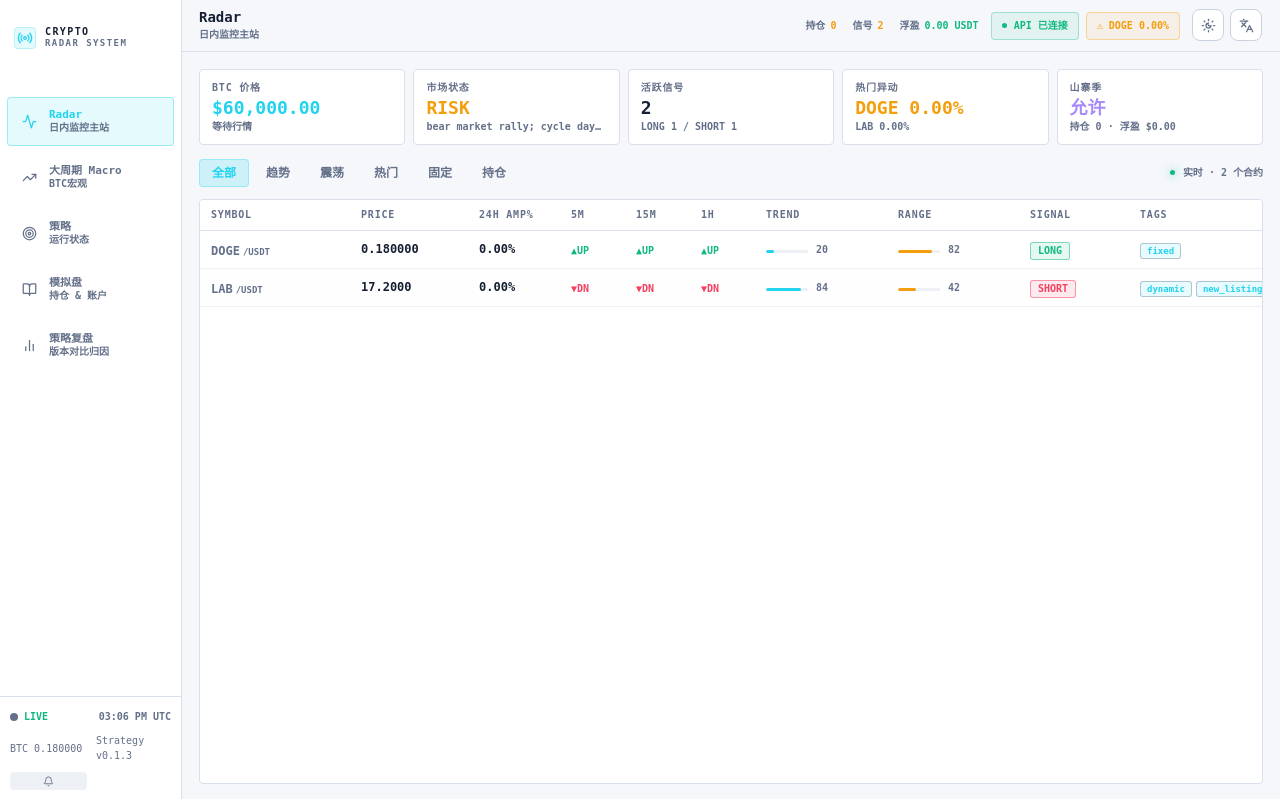
Test: App › renders analog forward K-line windows with score components
The image size is (1280, 799).
Click the button "大周期 Macro BTC宏观" at (90, 178), box [7, 153, 174, 202]
(page scrolled)
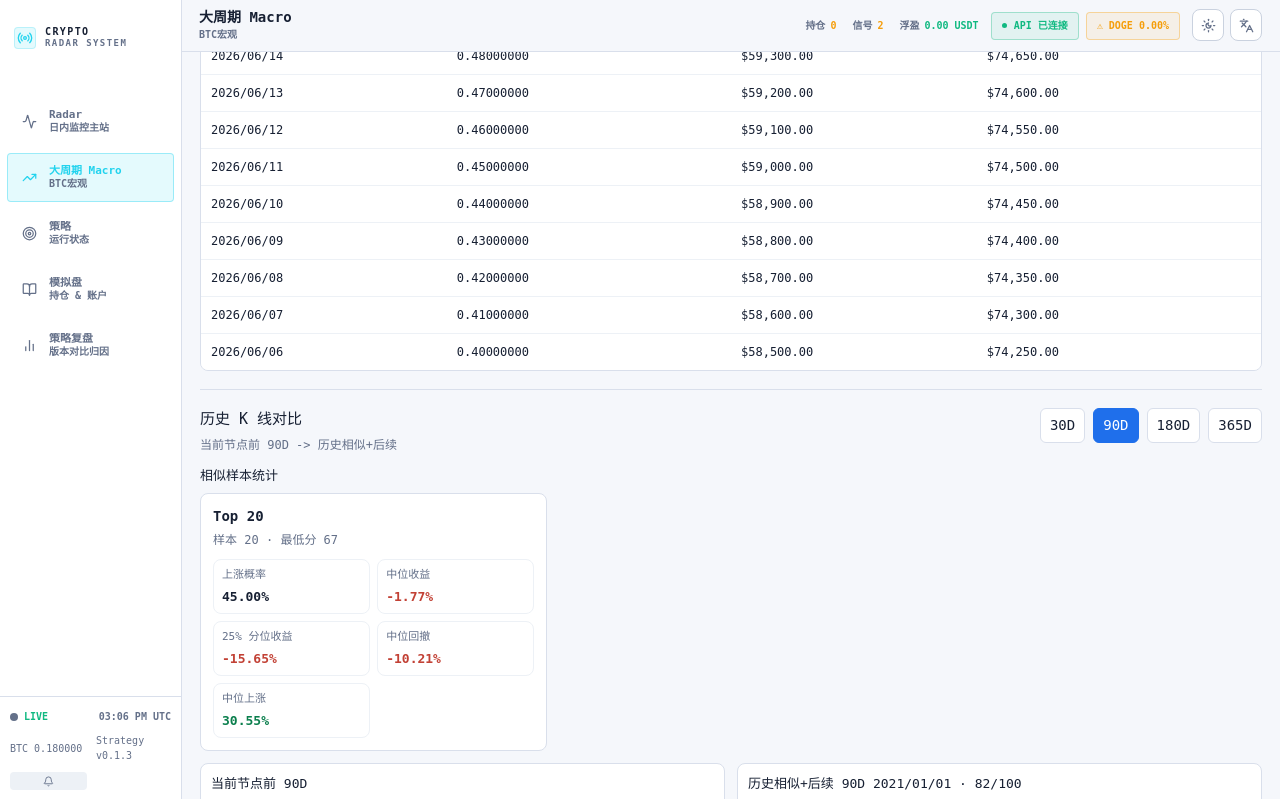
Expected: the heading "历史 K 线对比" is shown, [200, 410, 302, 428]
Expected: the heading "当前节点前 90D" is shown, [211, 776, 307, 791]
Expected: the heading "历史相似+后续 90D 2021/01/01 · 82/100" is shown, [748, 776, 1022, 791]
Click the button "30D" at (1063, 426), box [1040, 408, 1085, 443]
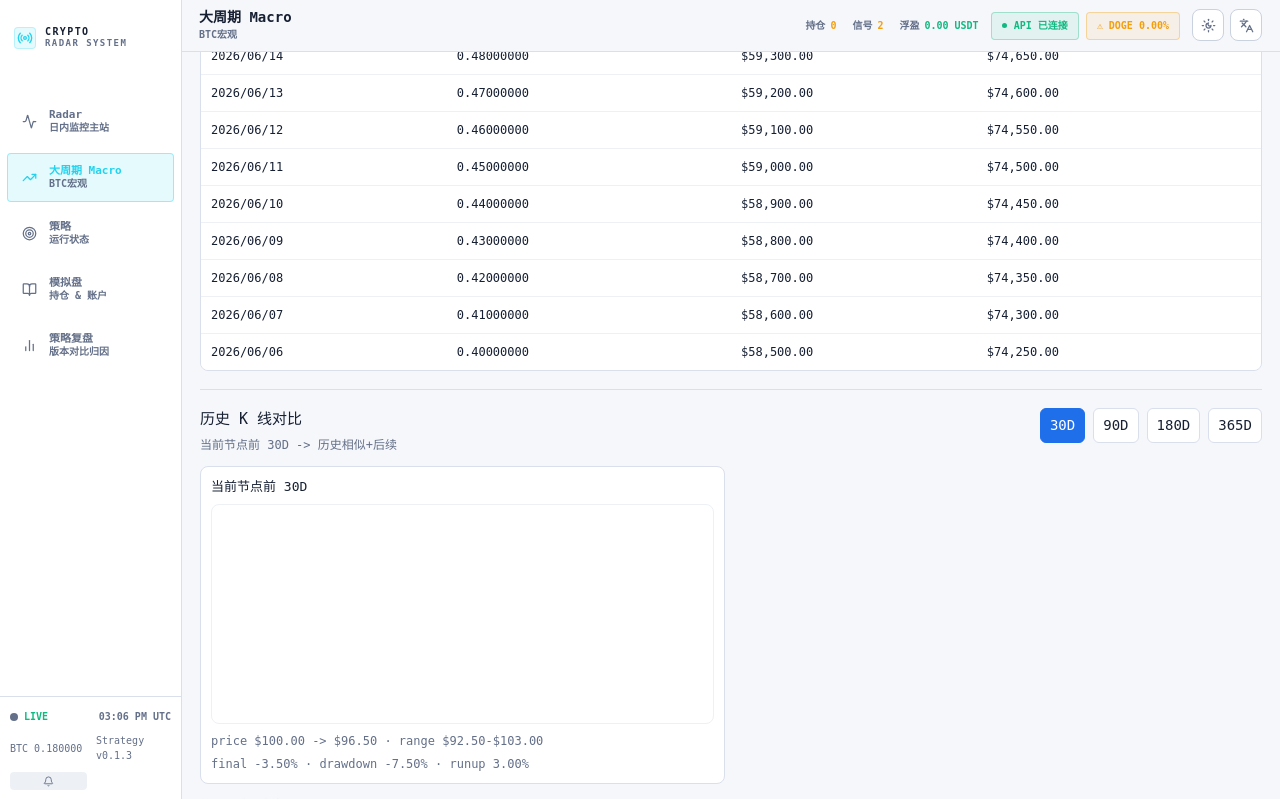
Expected: the heading "当前节点前 30D" is shown, [211, 479, 307, 494]
